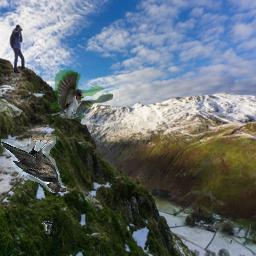Crow: (1, 133, 67, 193)
Swallow: (51, 71, 113, 120)
Woodpecker: (41, 222, 53, 235)
